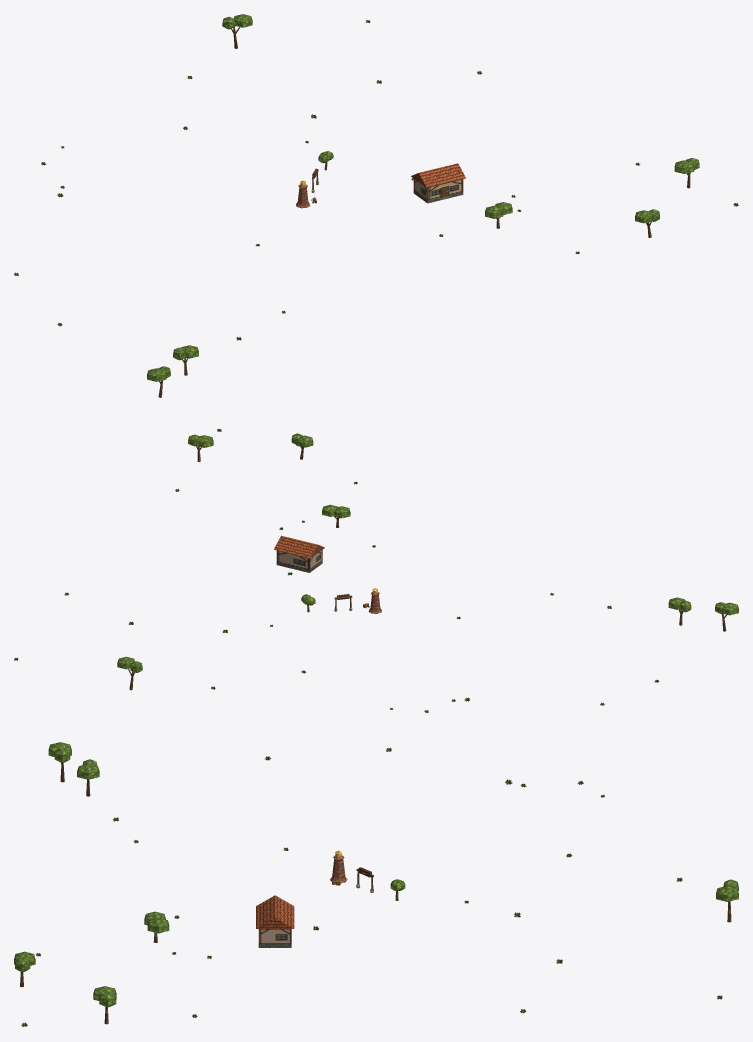
File: FieldCell_0_0.fbx
The picture shows the model from 3 angles, top to bottom: view 1: azimuth 30°, elevation 25°; view 2: azimuth 150°, elevation 25°; view 3: azimuth 270°, elevation 25°; orthographic projection. The views are drawn at different scales.
Parts seen in each view (by area): view 1: FieldCell_0_0; view 2: FieldCell_0_0; view 3: FieldCell_0_0, FieldLeaves_0_0.
Boxes of the visible parts, x1,y1,x2,y2 form: FieldCell_0_0: (147,14,699,397); FieldCell_0_0: (117,433,738,690); FieldCell_0_0: (14,742,738,1024); FieldLeaves_0_0: (21,747,722,1026).
Bounding box in the file's own units: 14917 × 2231 × 13682.
